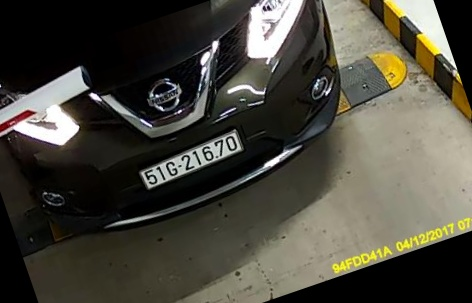plate: (128, 131, 250, 189)
